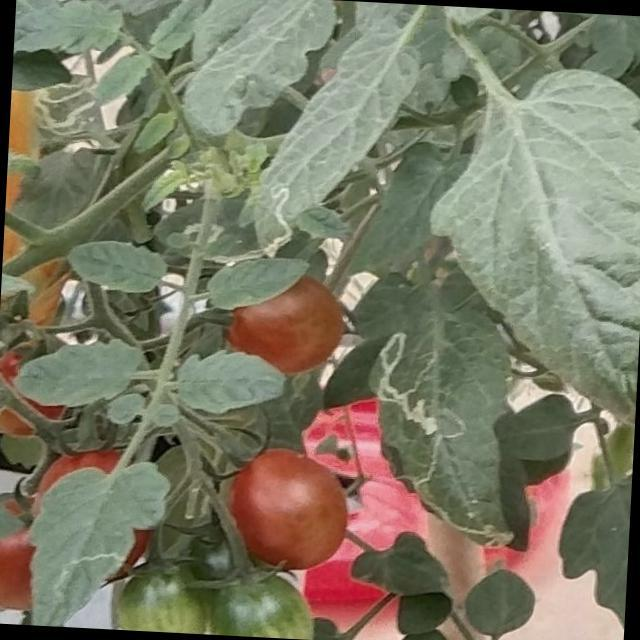Tomato target spot leaf: (357, 256, 533, 554), (243, 12, 434, 272), (13, 443, 182, 632), (18, 60, 132, 174)
